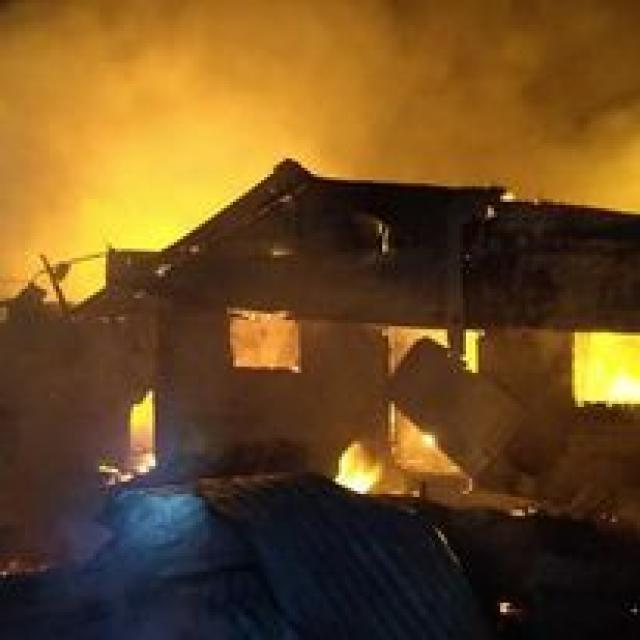Fire: (55, 127, 264, 296), (580, 333, 640, 409), (120, 395, 168, 471), (336, 431, 376, 499)
